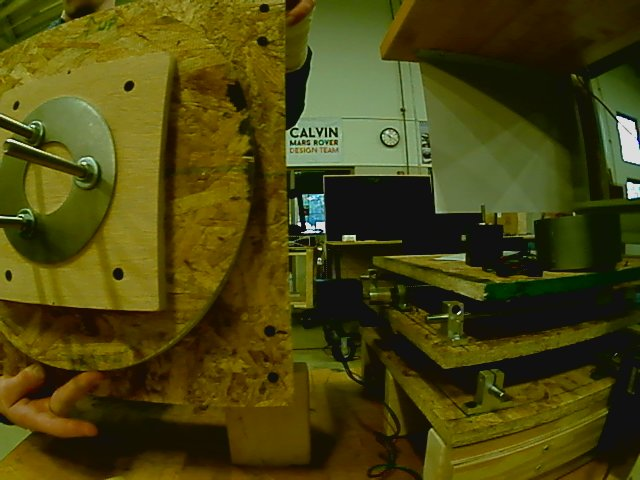bolt: (72, 155, 101, 191), (15, 207, 37, 240), (23, 118, 46, 147)
